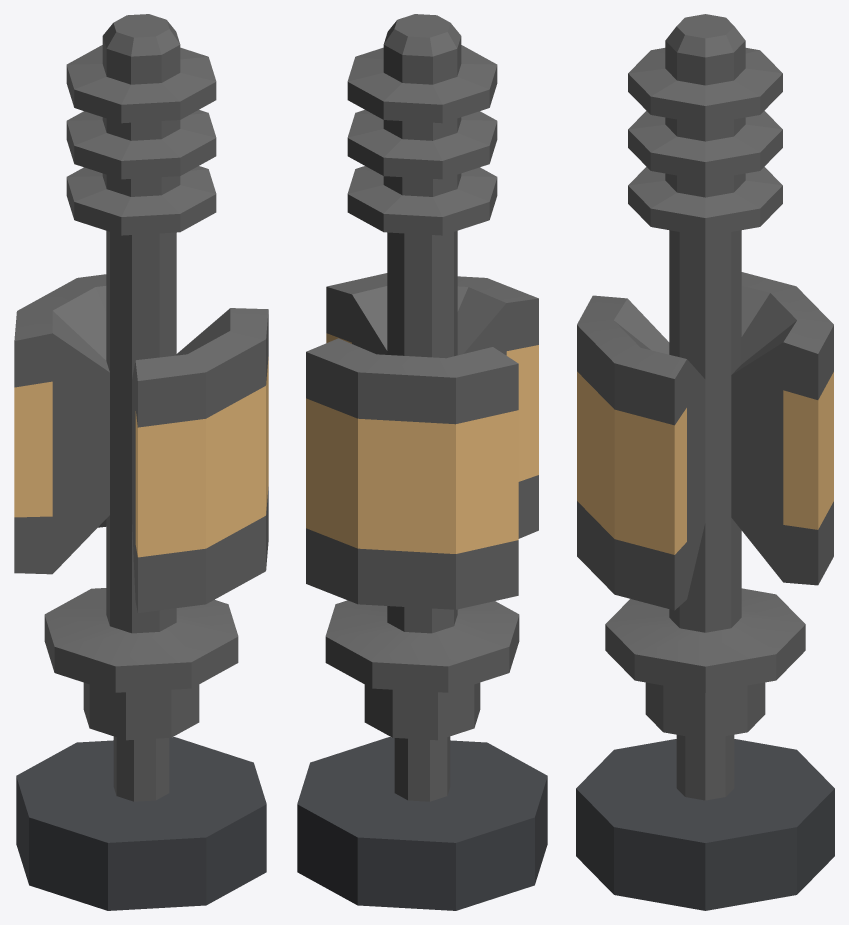
The model's file is bld_power_04.fbx.
3 views of the same model, side by side, from view 1: azimuth 30°, elevation 25°; view 2: azimuth 150°, elevation 25°; view 3: azimuth 270°, elevation 25° (orthographic).
Visible parts, largest first — view 1: SM_Bld_Power_04; view 2: SM_Bld_Power_04; view 3: SM_Bld_Power_04.
Boxes of the visible parts, x1=… form: SM_Bld_Power_04: x1=14, y1=14, x2=268, y2=910; SM_Bld_Power_04: x1=297, y1=14, x2=547, y2=910; SM_Bld_Power_04: x1=576, y1=14, x2=834, y2=910.
Size of the model in its own units: 154 by 546 by 154.
